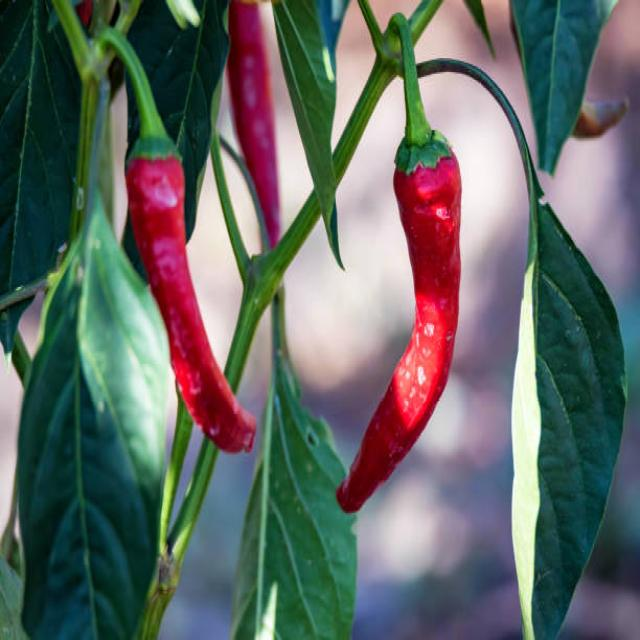Ripe: (337, 147, 460, 511), (128, 157, 258, 456)
